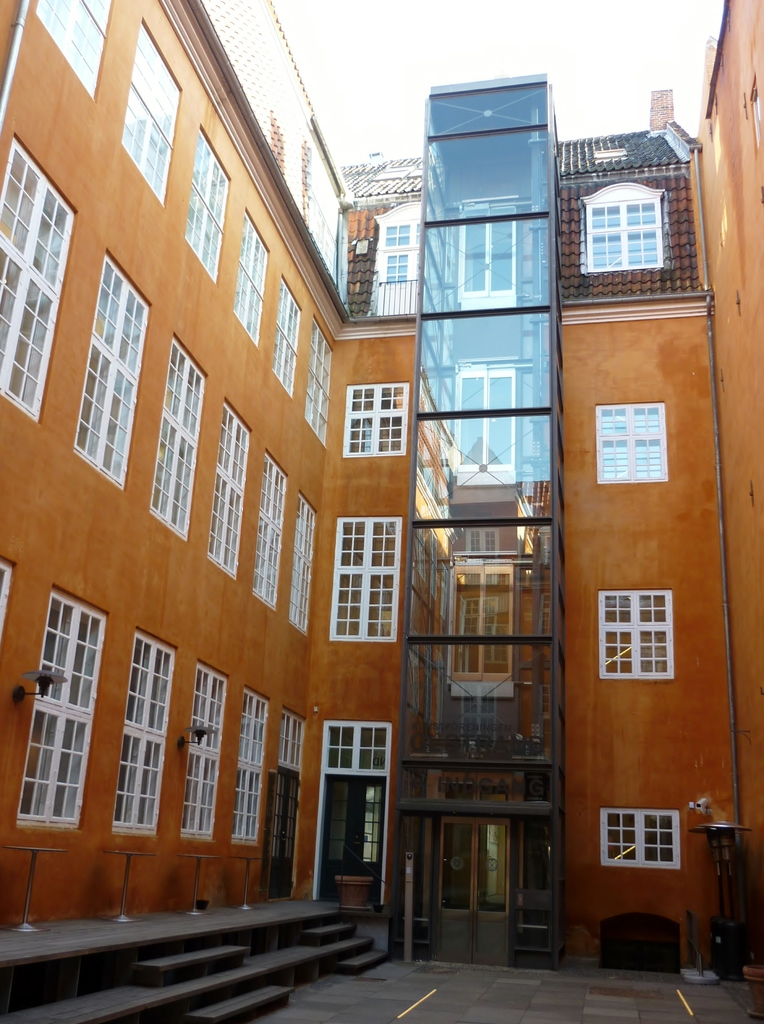door: (329, 779, 377, 896), (277, 775, 293, 895)
